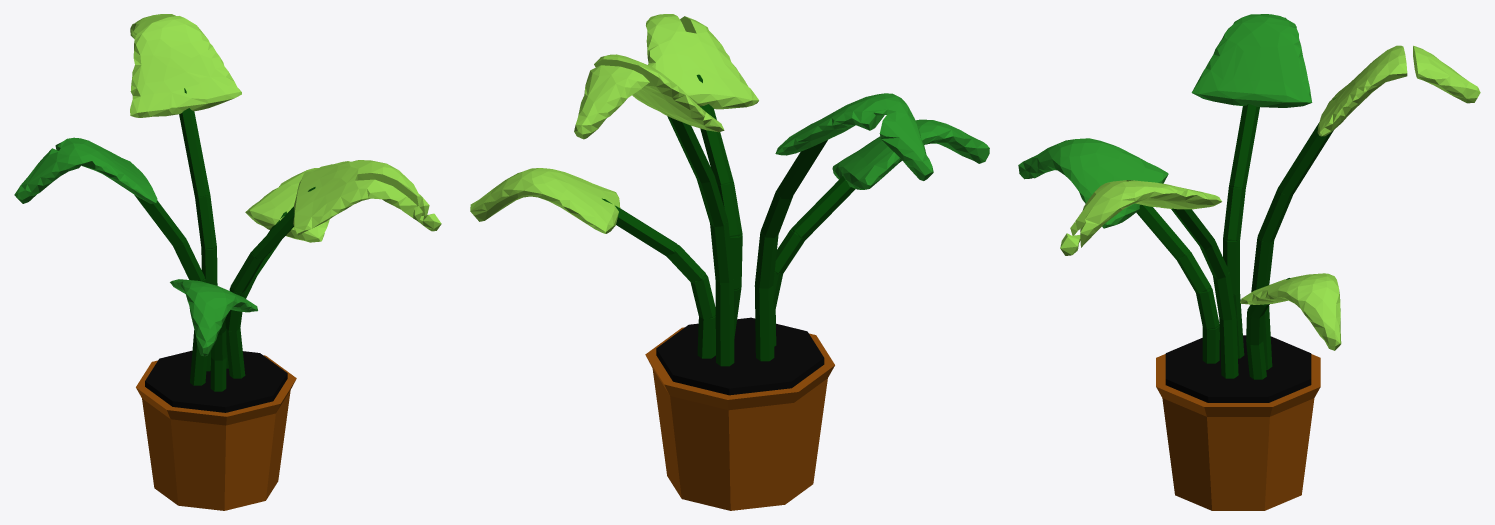
Rendered from monstera.glb.
3 renders of one model, left to right at view 1: azimuth 30°, elevation 25°; view 2: azimuth 150°, elevation 25°; view 3: azimuth 270°, elevation 25°, orthographic. The views are drawn at different scales.
Parts seen in each view (by area): view 1: root; view 2: root; view 3: root.
Part boxes in pixels (x1=…): root: x1=14, y1=14, x2=441, y2=510; root: x1=470, y1=14, x2=989, y2=510; root: x1=1018, y1=14, x2=1480, y2=510.
Size of the model in its own units: 1.36 by 1.43 by 1.35.
